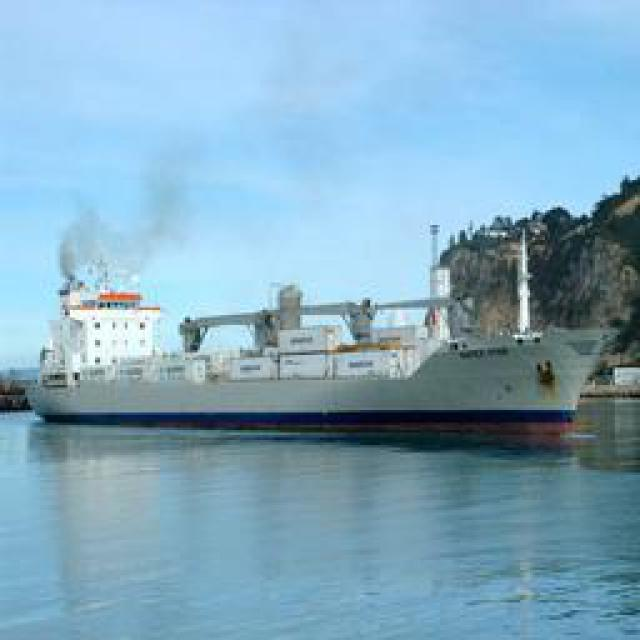Ship: (34, 261, 609, 431)
